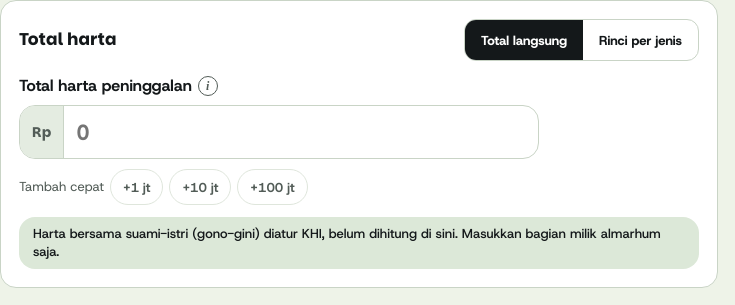
Test: tambah cepat menambah ke total
The image size is (735, 305).
Click the button "+10 jt" at {"x": 200, "y": 187}, box [169,169,231,205]
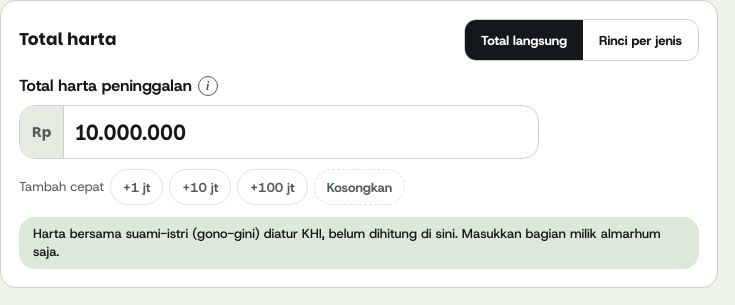
Click the button "+1 jt" at {"x": 137, "y": 187}, box [110,169,163,205]
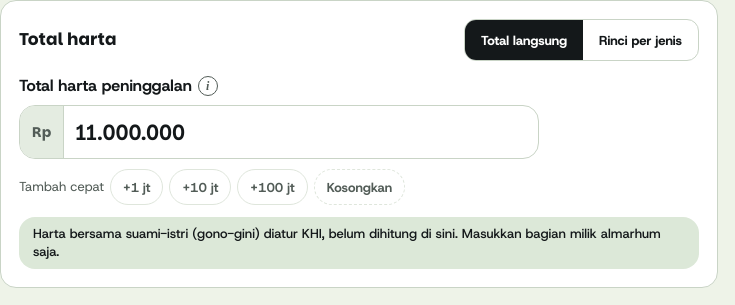
expect the field labelled "Total harta peninggalan" holds "11.000.000": met, box [64,106,538,158]
